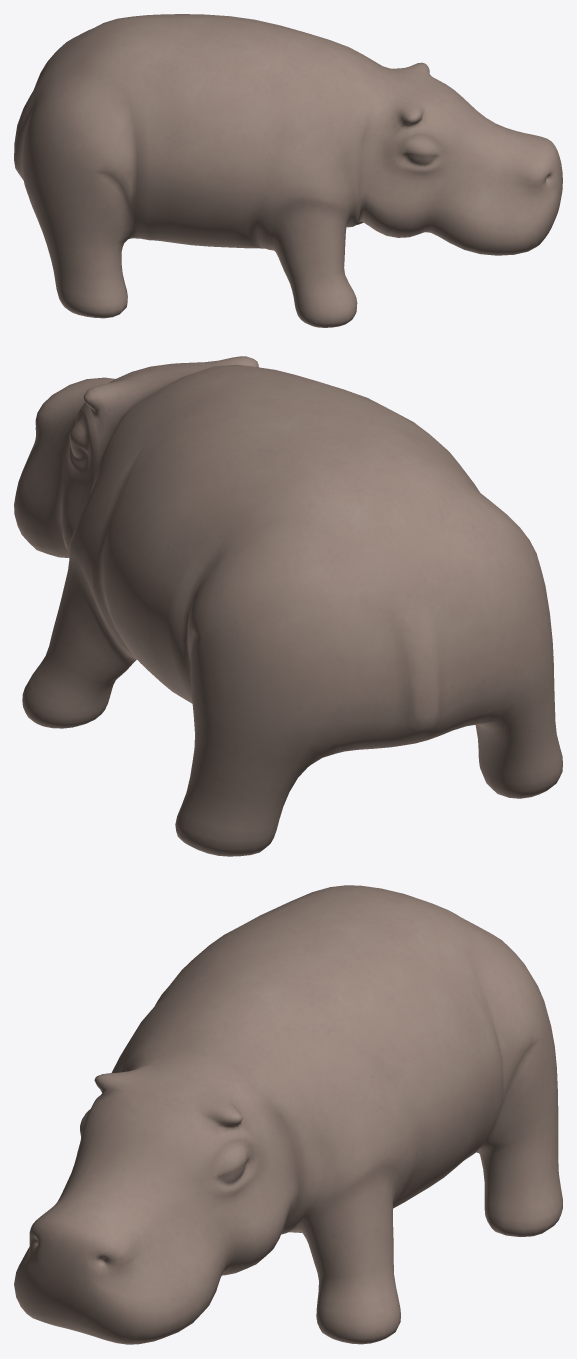
Rendered from rightpiggy.glb.
3 renders of one model, top to bottom at view 1: azimuth 30°, elevation 25°; view 2: azimuth 150°, elevation 25°; view 3: azimuth 270°, elevation 25°, orthographic. The views are drawn at different scales.
Parts seen in each view (by area): view 1: Hippopotamus.001; view 2: Hippopotamus.001; view 3: Hippopotamus.001.
Part boxes in pixels (x1=…): Hippopotamus.001: x1=14, y1=14, x2=562, y2=327; Hippopotamus.001: x1=14, y1=356, x2=562, y2=856; Hippopotamus.001: x1=14, y1=885, x2=562, y2=1344.
Bounding box in the file's own units: 0.2764 × 0.1439 × 0.2304.
Materials: 1 (1 with a texture image).
